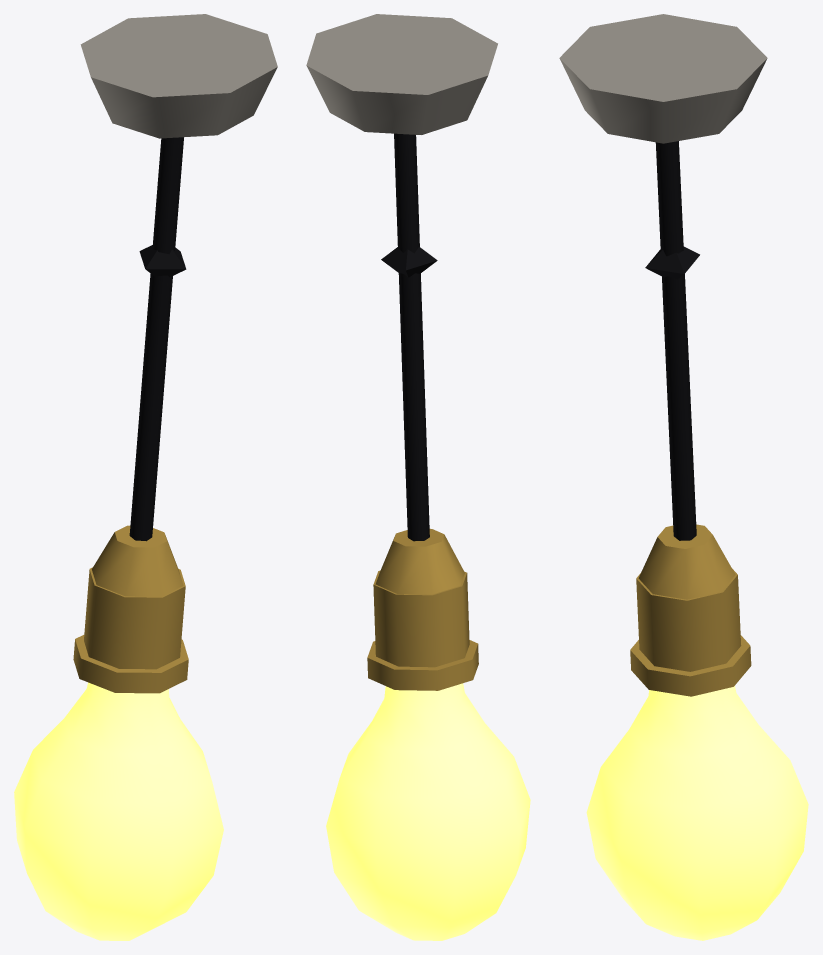
The model's file is Peertje.glb.
The picture shows the model from 3 angles, left to right: view 1: azimuth 30°, elevation 25°; view 2: azimuth 150°, elevation 25°; view 3: azimuth 270°, elevation 25°; orthographic projection. The views are drawn at different scales.
Visible parts, largest first — view 1: Bulb, CeilingCap, Socket, Cord; view 2: Bulb, CeilingCap, Socket, Cord; view 3: Bulb, CeilingCap, Socket, Cord.
Boxes of the visible parts, x1,y1,x2,y2 form: Bulb: [14, 682, 223, 940]; CeilingCap: [80, 14, 277, 138]; Socket: [73, 525, 188, 693]; Cord: [129, 137, 186, 541]; Bulb: [326, 683, 530, 940]; CeilingCap: [306, 14, 497, 134]; Socket: [367, 528, 478, 690]; Cord: [381, 133, 437, 541]; Bulb: [586, 686, 808, 940]; CeilingCap: [559, 14, 767, 143]; Socket: [630, 524, 751, 696]; Cord: [645, 141, 699, 540].
Size of the model in its own units: 0.115 by 0.4269 by 0.1077.
